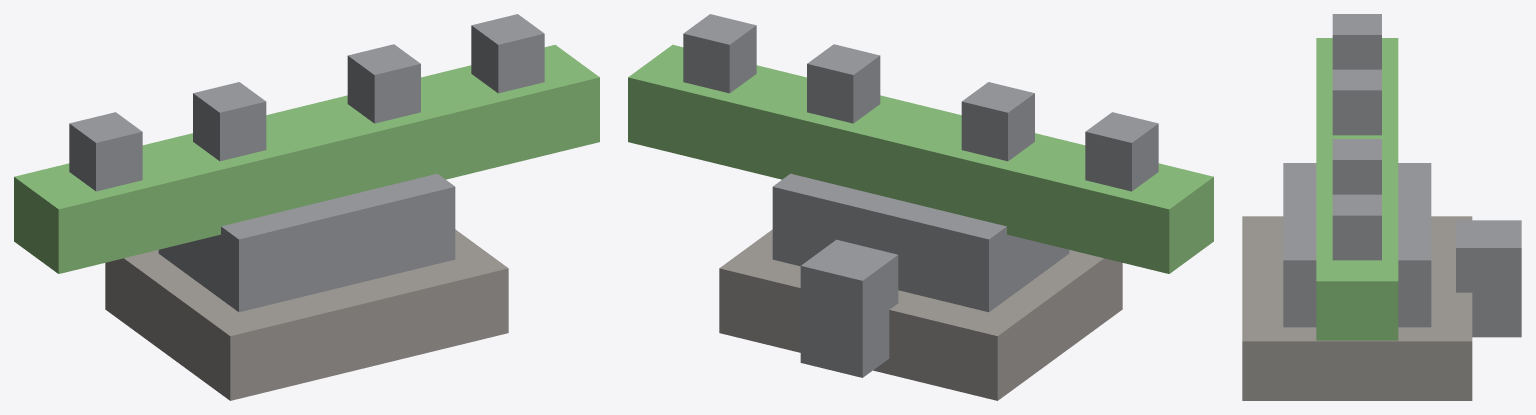
Rendered from built-sprinkler.glb.
3 views of the same model, side by side, from view 1: azimuth 30°, elevation 25°; view 2: azimuth 150°, elevation 25°; view 3: azimuth 270°, elevation 25° (orthographic). The views are drawn at different scales.
Visible parts, largest first — view 1: built-sprinkler; view 2: built-sprinkler; view 3: built-sprinkler.
Part boxes in pixels (<box>): built-sprinkler: <box>14,14,599,400</box>; built-sprinkler: <box>628,14,1213,400</box>; built-sprinkler: <box>1242,14,1521,400</box>.
Bounding box in the file's own units: 0.7 × 0.3 × 0.34.
